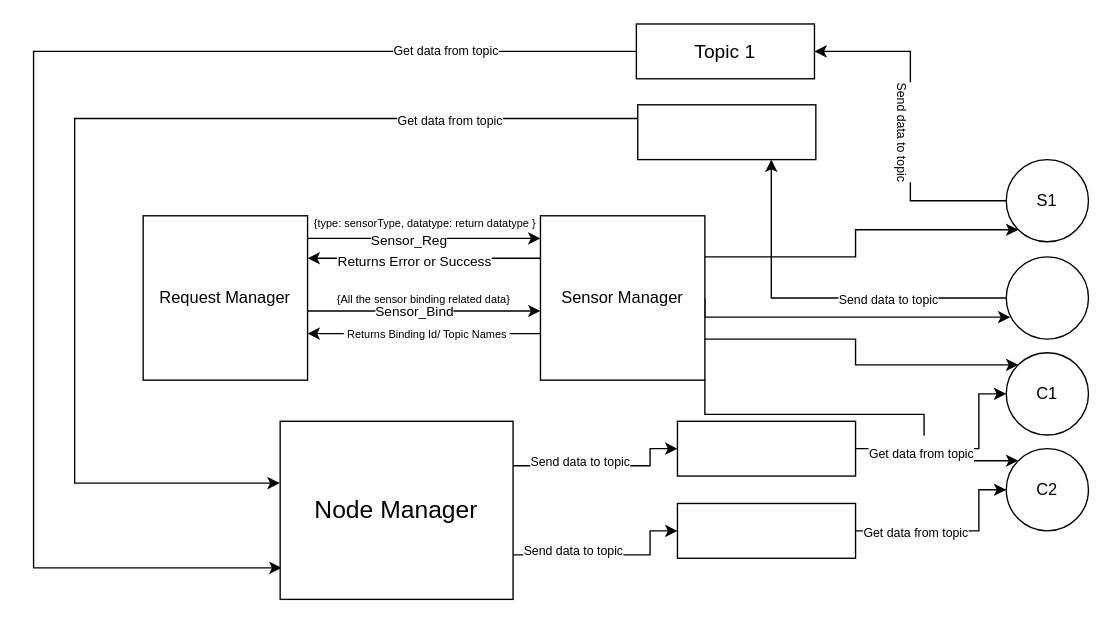
This 1112x623 diagram has some shape labels left out. Here are the shapes that lost their labels. From the top down, the centre of each, then its label:
At (726,131): "Topic 2".
At (1046,297): "S2".
At (766,448): "Topic 3".
At (766,530): "Topic 4".
